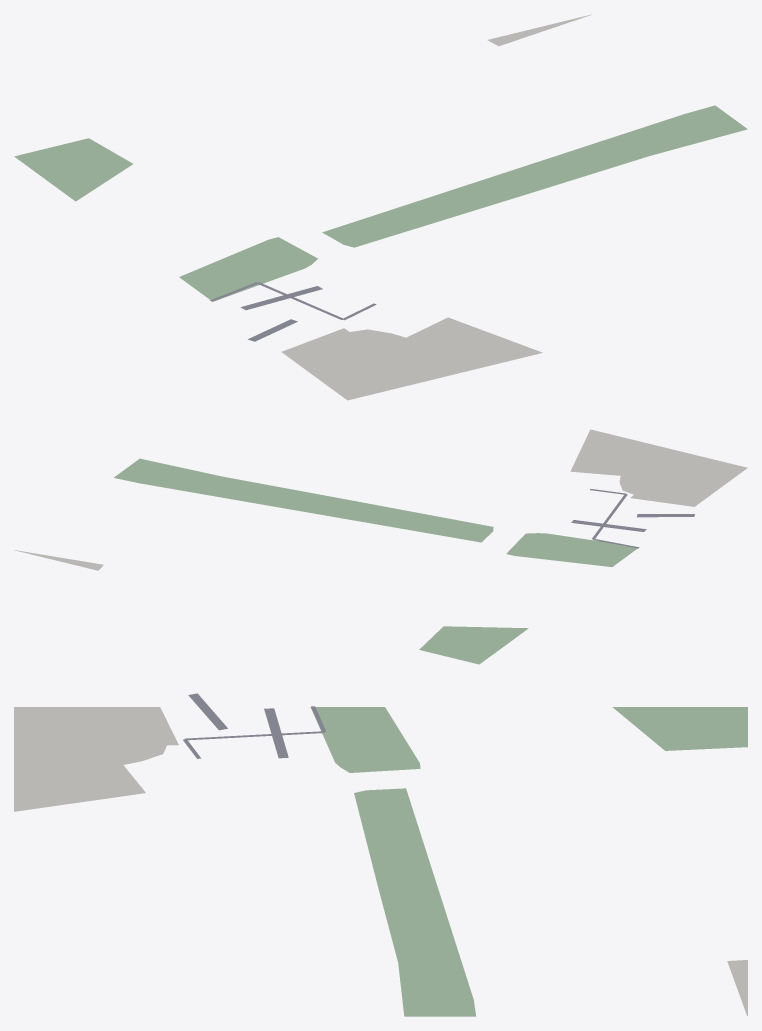
File: 124_114_mid.glb
3 views of the same model, one above another, from view 1: azimuth 30°, elevation 25°; view 2: azimuth 150°, elevation 25°; view 3: azimuth 270°, elevation 25° (orthographic). The views are drawn at different scales.
Bounding box in the file's own units: 514 × 6.31 × 500.
